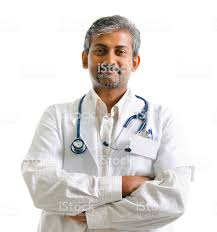Indian_Male: (80, 30, 132, 92)
